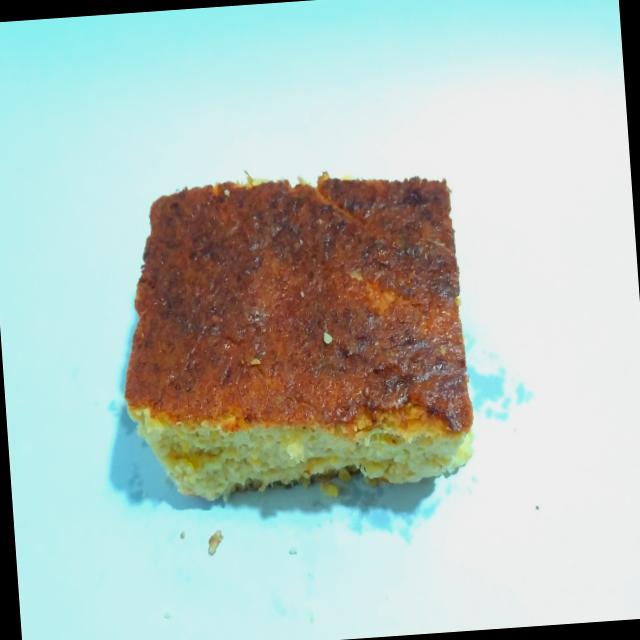Chipa_Guazu: (103, 149, 493, 517)
